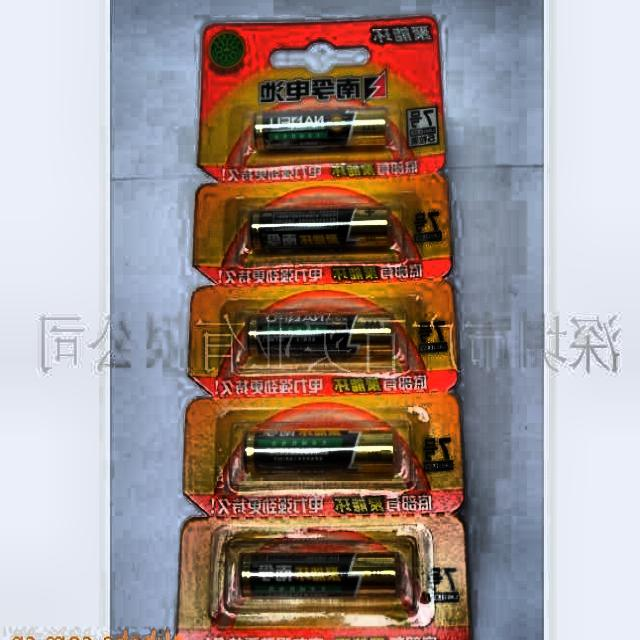Non-Valuable Waste - Batteries: (240, 553, 397, 597), (246, 315, 392, 361), (244, 431, 395, 474), (250, 207, 389, 252), (253, 109, 387, 150)
